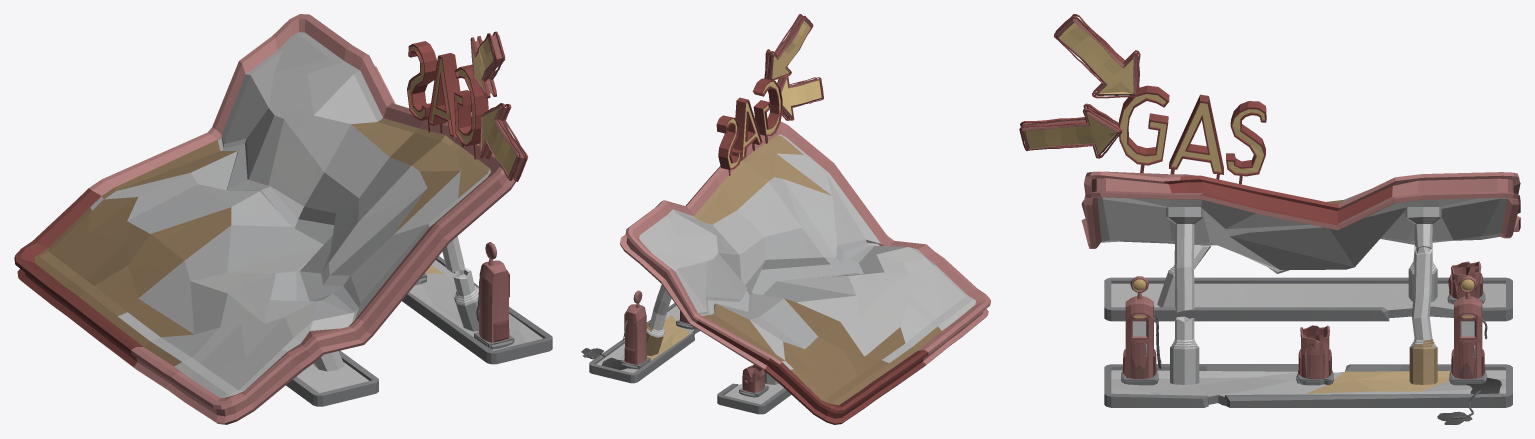
The model's file is gas_station_annex_1.glb.
3 renders of one model, left to right at view 1: azimuth 30°, elevation 25°; view 2: azimuth 150°, elevation 25°; view 3: azimuth 270°, elevation 25°, orthographic. The views are drawn at different scales.
Parts seen in each view (by area): view 1: gas_Station_annex_roof, banner, gas_Station_annex_platform_1, gas_Station_annex_platform_2, gas_pump_3; view 2: gas_Station_annex_roof, banner, gas_Station_annex_platform_1, gas_pump_1, gas_Station_annex_platform_2, gas_pump_4; view 3: gas_Station_annex_roof, gas_Station_annex_platform_2, gas_Station_annex_platform_1, banner, gas_pump_1, gas_pump_3, gas_pump_2, gas_pump_4.
Boxes of the visible parts, x1,y1,x2,y2 form: gas_Station_annex_roof: (14, 14, 515, 424); banner: (407, 31, 527, 181); gas_Station_annex_platform_1: (402, 256, 552, 364); gas_Station_annex_platform_2: (286, 350, 378, 406); gas_pump_3: (474, 242, 514, 349); gas_Station_annex_roof: (620, 121, 990, 424); banner: (716, 14, 823, 175); gas_Station_annex_platform_1: (589, 303, 699, 383); gas_pump_1: (601, 290, 650, 370); gas_Station_annex_platform_2: (717, 371, 791, 414); gas_pump_4: (739, 364, 768, 397); gas_Station_annex_roof: (1081, 171, 1520, 384); gas_Station_annex_platform_2: (1104, 243, 1512, 321); gas_Station_annex_platform_1: (1104, 364, 1512, 407); banner: (1019, 14, 1266, 184); gas_pump_1: (1449, 276, 1501, 393); gas_pump_3: (1121, 276, 1161, 385); gas_pump_2: (1296, 325, 1333, 385); gas_pump_4: (1447, 261, 1485, 304).
Bounding box in the file's own units: 10.91 × 9.51 × 12.2.
1 material, 1 textured.
